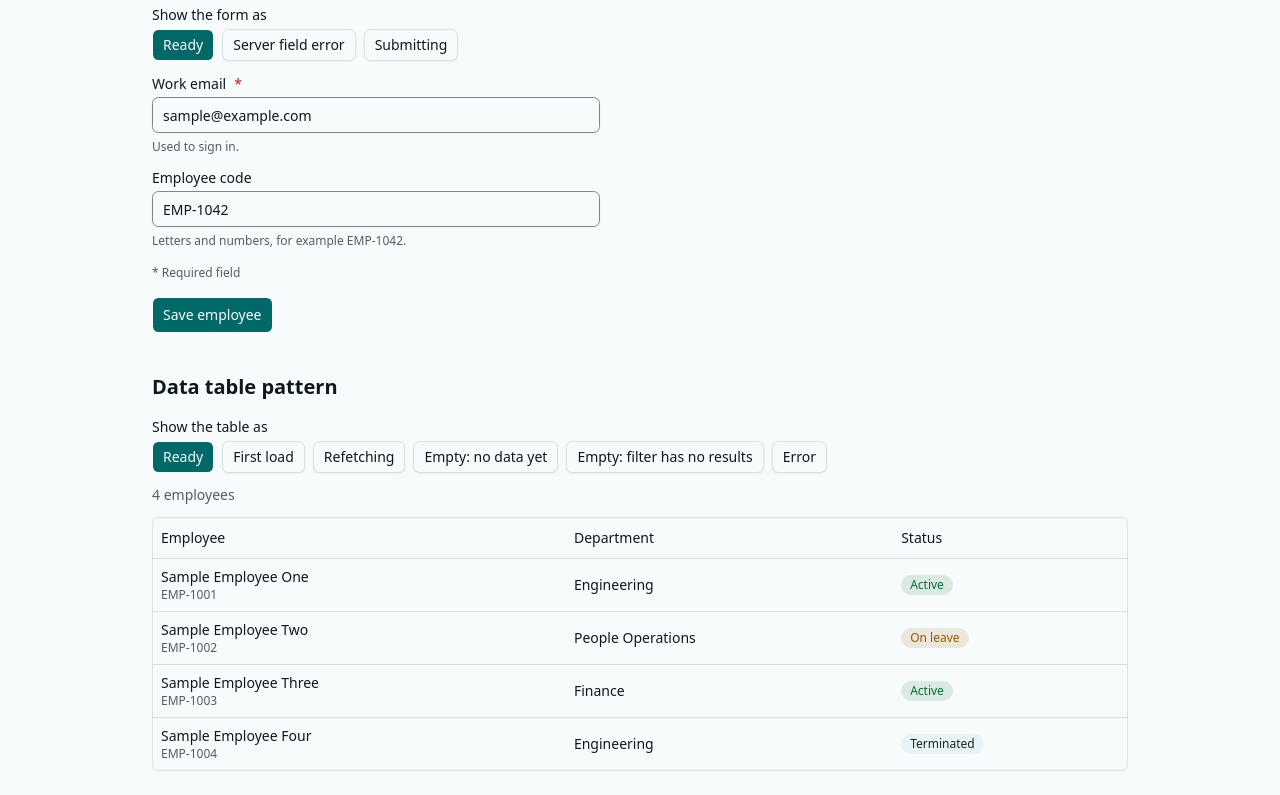
Test case: FoundationPreview › data table states › shows skeleton rows and marks the table busy on first load
The width and height of the screenshot is (1280, 795).
(page scrolled)
Click the button "First load". click: (264, 457)
box: [222,441,305,473]
(page scrolled)
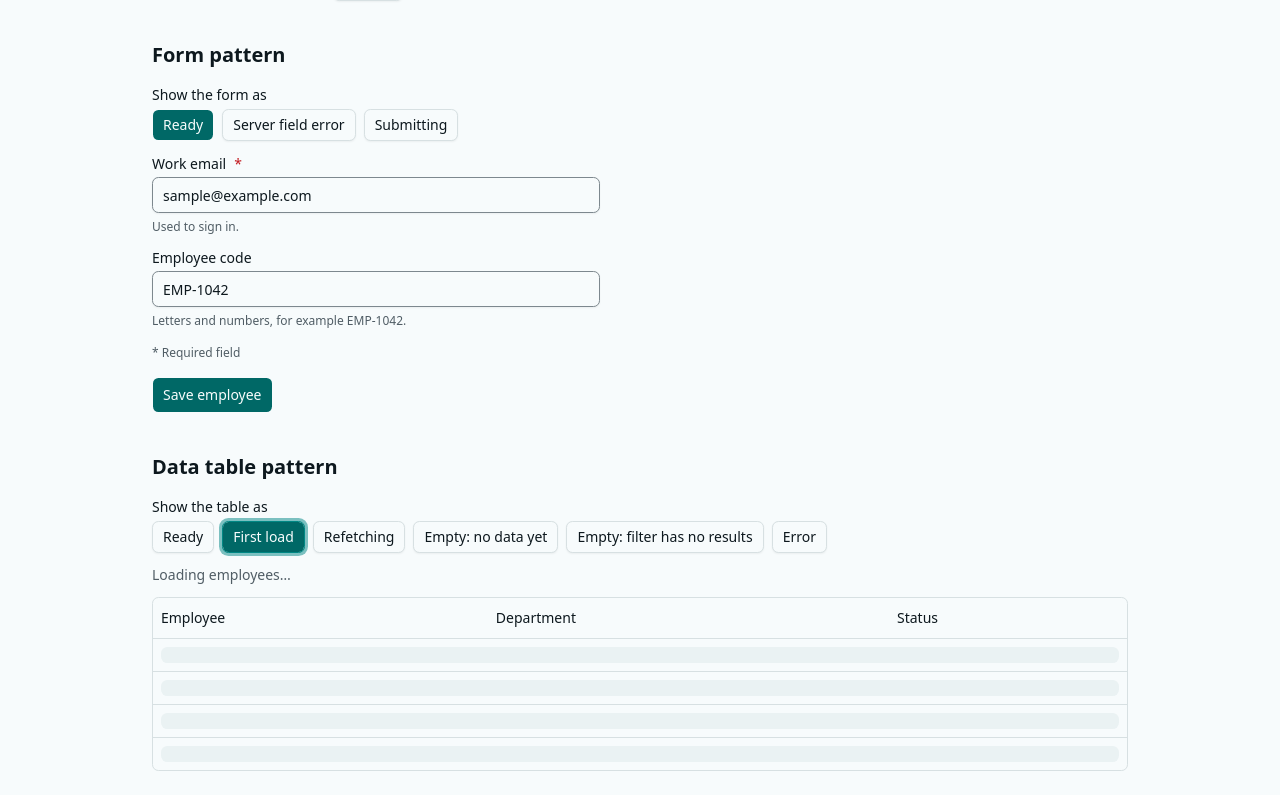
Expected: the message reads "Loading employees…", [152,565,291,584]
Expected: the text "Sample Employee One" is gone
